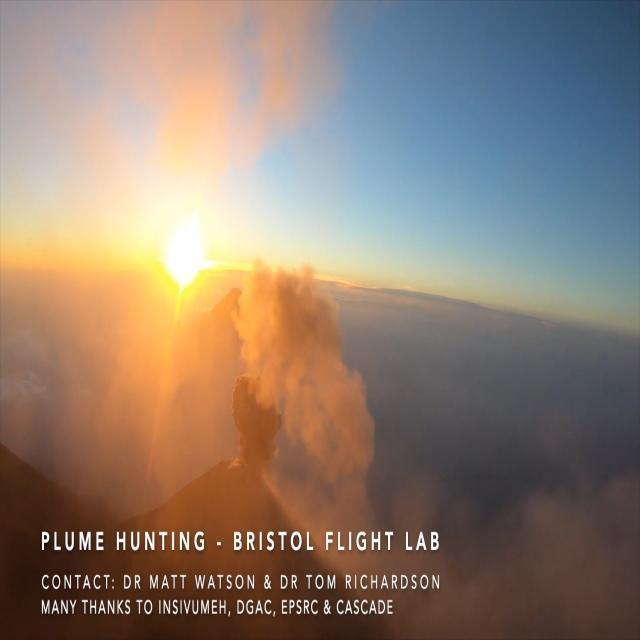Plume: (242, 252, 378, 470), (233, 368, 280, 456)
Summit: (120, 441, 325, 530)
